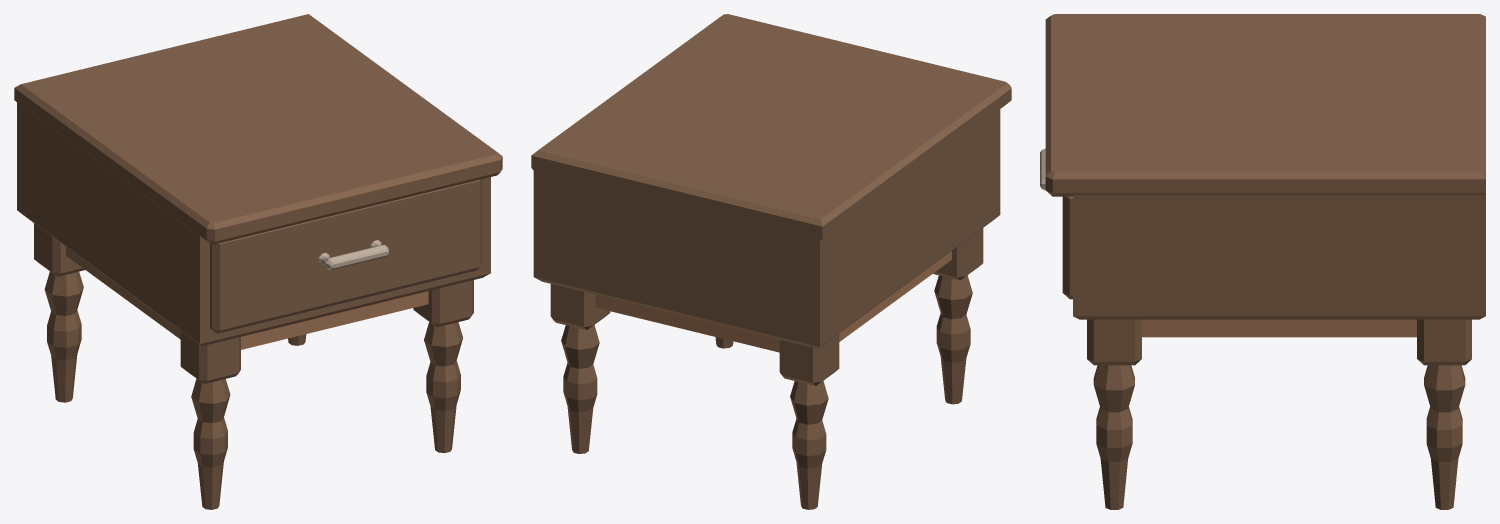
Rendered from Prop_Living_Room_Side_Table.obj.
The picture shows the model from 3 angles, left to right: view 1: azimuth 30°, elevation 25°; view 2: azimuth 150°, elevation 25°; view 3: azimuth 270°, elevation 25°; orthographic projection. The views are drawn at different scales.
Parts seen in each view (by area): view 1: object3, object1, object2; view 2: object3; view 3: object3, object1.
Part boxes in pixels (box(x1,y1,x2,y2)): object3: box(14, 14, 502, 509); object1: box(210, 179, 482, 333); object2: box(318, 240, 388, 269); object3: box(531, 14, 1011, 509); object3: box(1045, 14, 1485, 509); object1: box(1062, 196, 1072, 299).
Bounding box in the file's own units: 0.7 × 0.7 × 0.8101.
